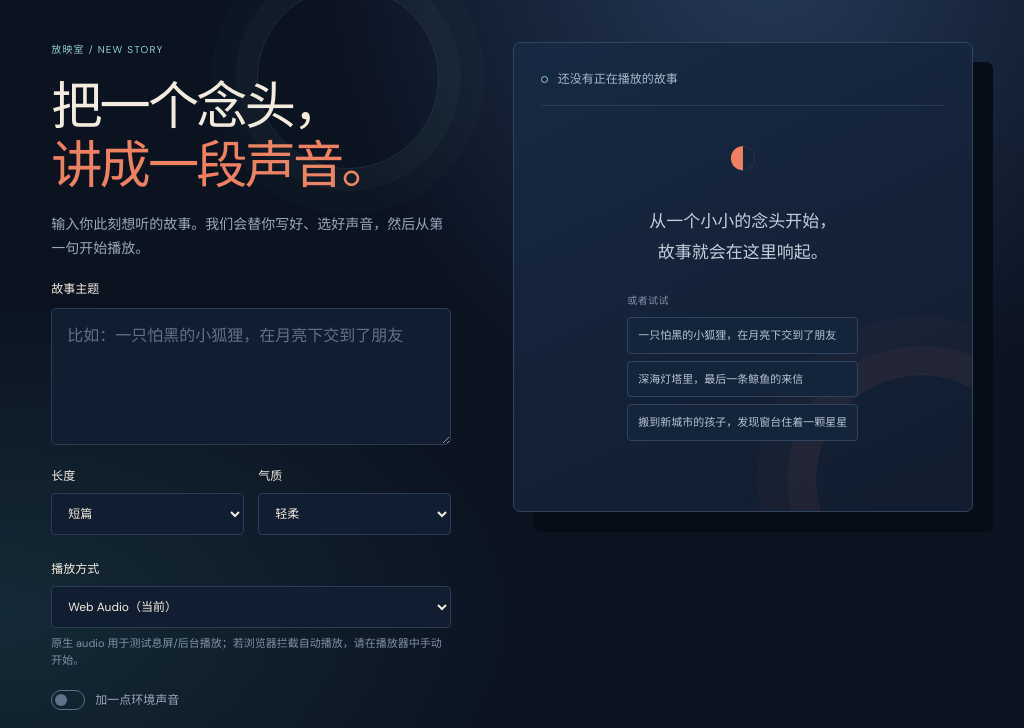
Test case: HomeView empty state › offers a story idea that fills and focuses the topic field
Click the button with test id "story-idea" showing "一只怕黑的小狐狸，在月亮下交到了朋友".
click(743, 336)  # box [627,317,858,354]
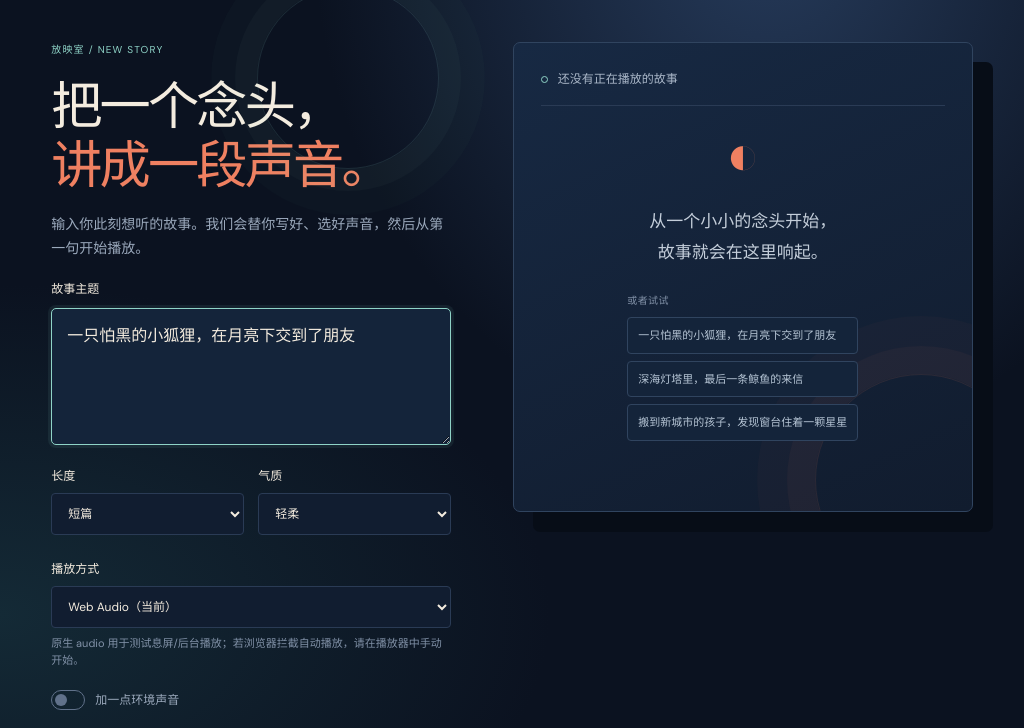
Expected: the text box with id "topic" holds "一只怕黑的小狐狸，在月亮下交到了朋友", [51,308,451,445]
